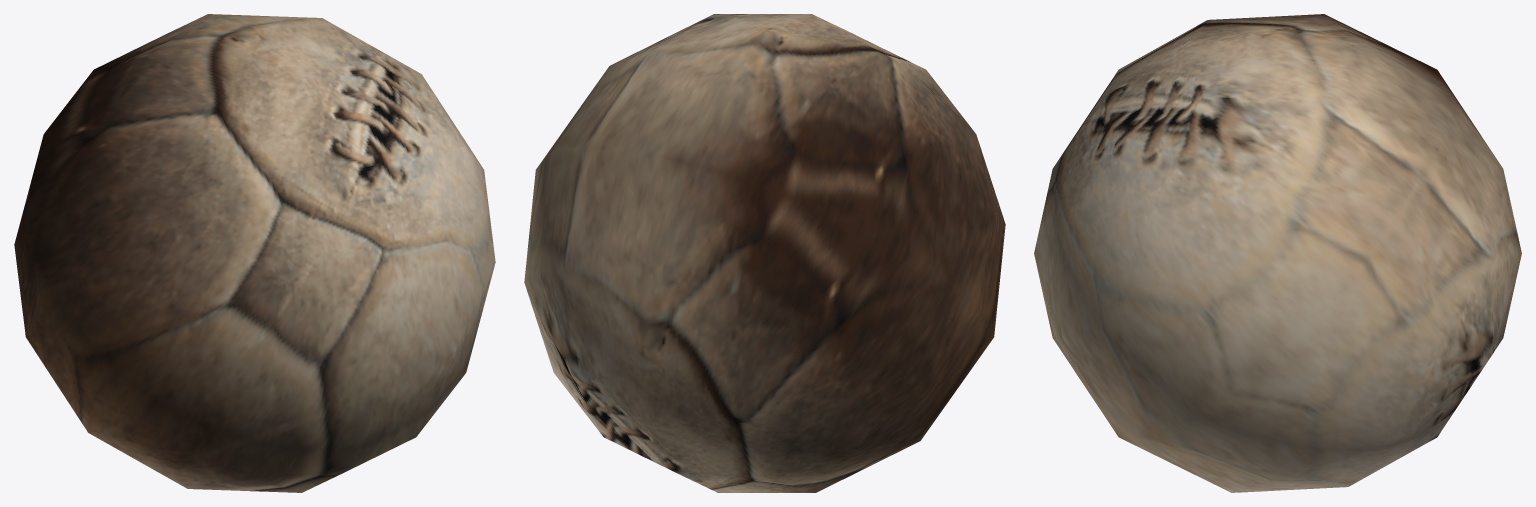
File: balon_viejo_009.FBX
The picture shows the model from 3 angles, left to right: view 1: azimuth 30°, elevation 25°; view 2: azimuth 150°, elevation 25°; view 3: azimuth 270°, elevation 25°; orthographic projection.
Visible parts, largest first — view 1: balon_viejo_009; view 2: balon_viejo_009; view 3: balon_viejo_009.
Boxes of the visible parts, box(x1,y1,x2,y2) form: balon_viejo_009: box(14, 14, 495, 492); balon_viejo_009: box(524, 14, 1005, 492); balon_viejo_009: box(1034, 14, 1521, 492).
Size of the model in its own units: 26.98 by 26.98 by 26.98.
